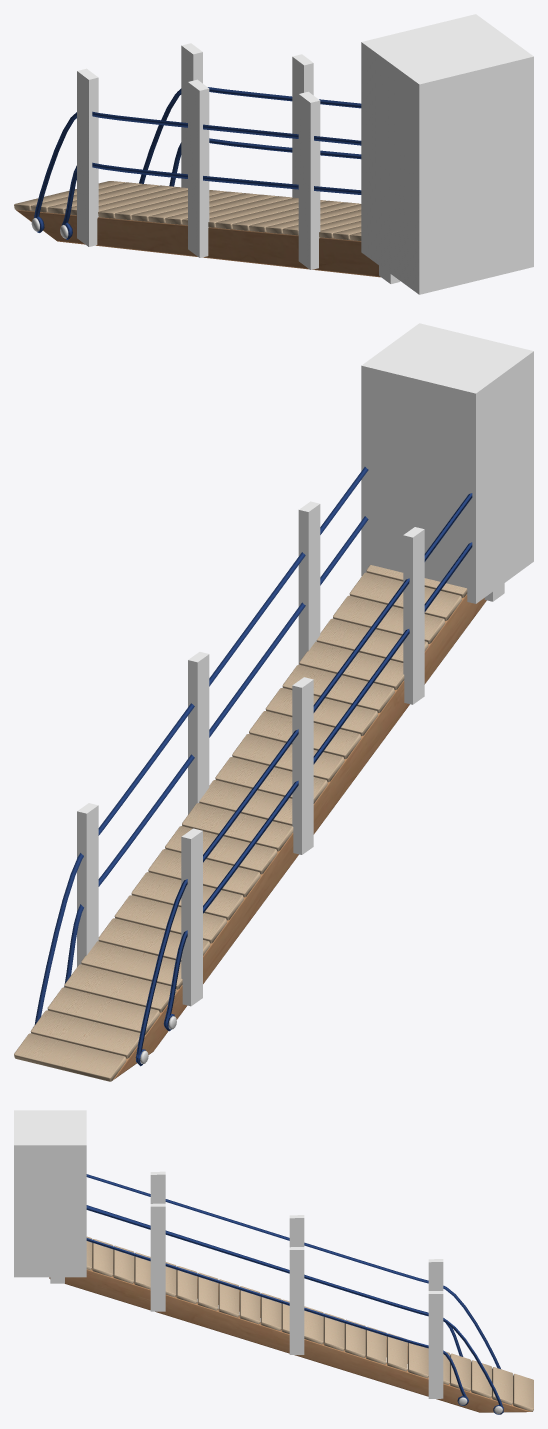
3 views of the same model, one above another, from view 1: azimuth 30°, elevation 25°; view 2: azimuth 150°, elevation 25°; view 3: azimuth 270°, elevation 25° (orthographic). The views are drawn at different scales.
Parts seen in each view (by area): view 1: joint,0,5, Plane001, Plane070.001, Plane070, Plane070_1; view 2: Plane070.001, joint,0,5, Plane001, Plane070_1, Plane070; view 3: Plane070.001, joint,0,5, Plane070, Plane001, Plane070_1.
Boxes of the visible parts, bbox=[...] form: joint,0,5: bbox=[361, 14, 533, 294]; Plane001: bbox=[77, 43, 320, 269]; Plane070.001: bbox=[14, 181, 361, 240]; Plane070: bbox=[16, 209, 380, 277]; Plane070_1: bbox=[34, 87, 361, 239]; Plane070.001: bbox=[14, 565, 467, 1081]; joint,0,5: bbox=[361, 323, 533, 603]; Plane001: bbox=[77, 501, 424, 1006]; Plane070_1: bbox=[34, 467, 472, 1066]; Plane070: bbox=[112, 594, 486, 1080]; Plane070.001: bbox=[86, 1236, 533, 1411]; joint,0,5: bbox=[14, 1110, 86, 1277]; Plane070: bbox=[49, 1268, 531, 1412]; Plane001: bbox=[150, 1171, 443, 1398]; Plane070_1: bbox=[86, 1174, 503, 1414].
Bounding box in the file's own units: 0.57 × 2.05 × 3.57.
6 materials, 3 textured.
